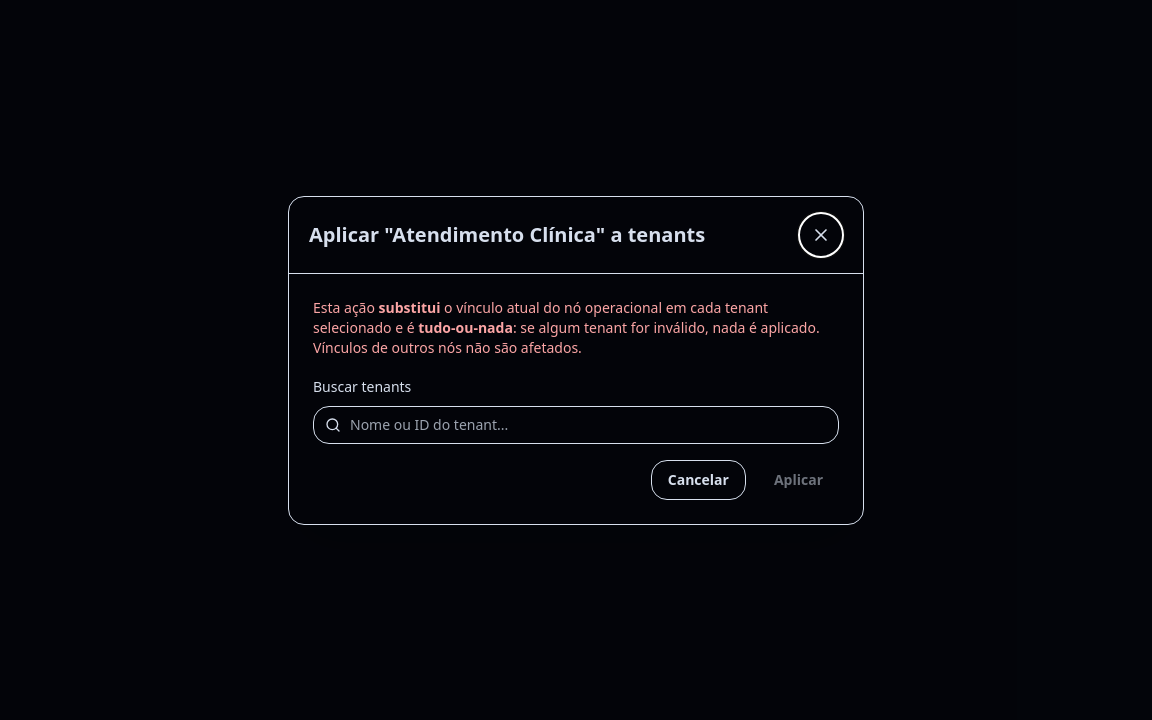
Test: BulkTenantLinkModal › separates already-linked tenants from ones that will change
Type "Acme Ltda" into the field labelled "Buscar tenants".
click(576, 424); type("Acme Ltda")  # box [313, 406, 839, 444]
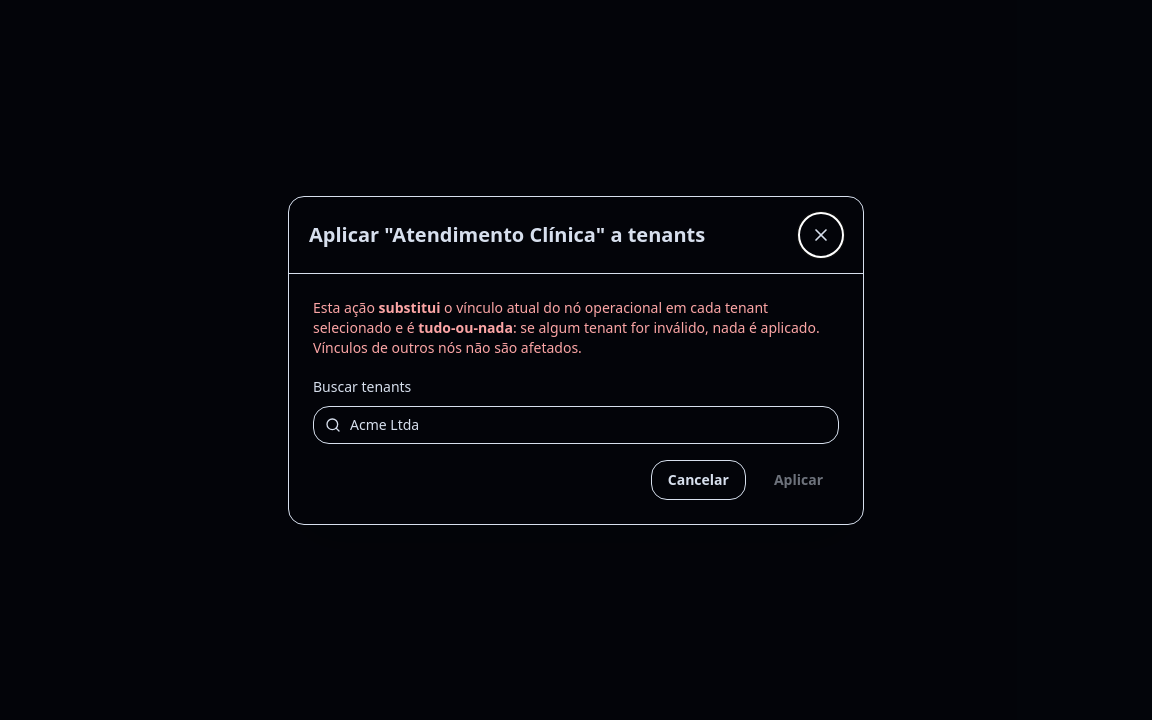
Press Enter in the field labelled "Buscar tenants", box [313, 406, 839, 444]
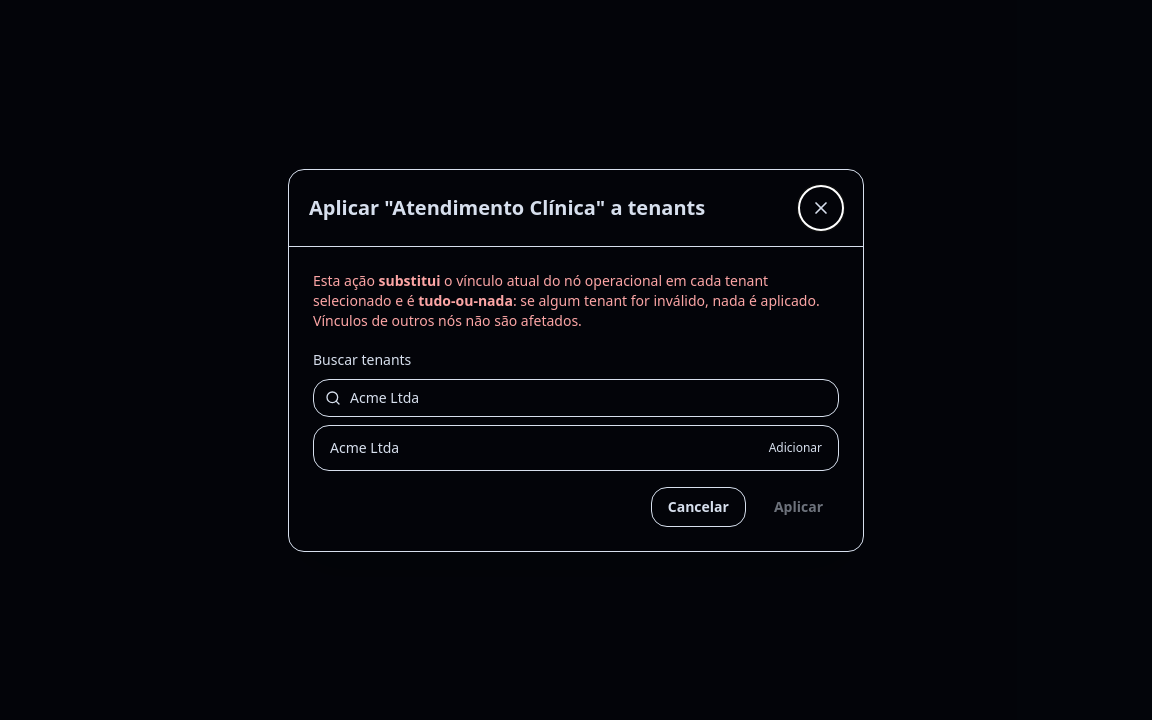
Now the text "Acme Ltda" is shown
Click the text "Acme Ltda".
click(365, 448)  # box [330, 438, 399, 458]
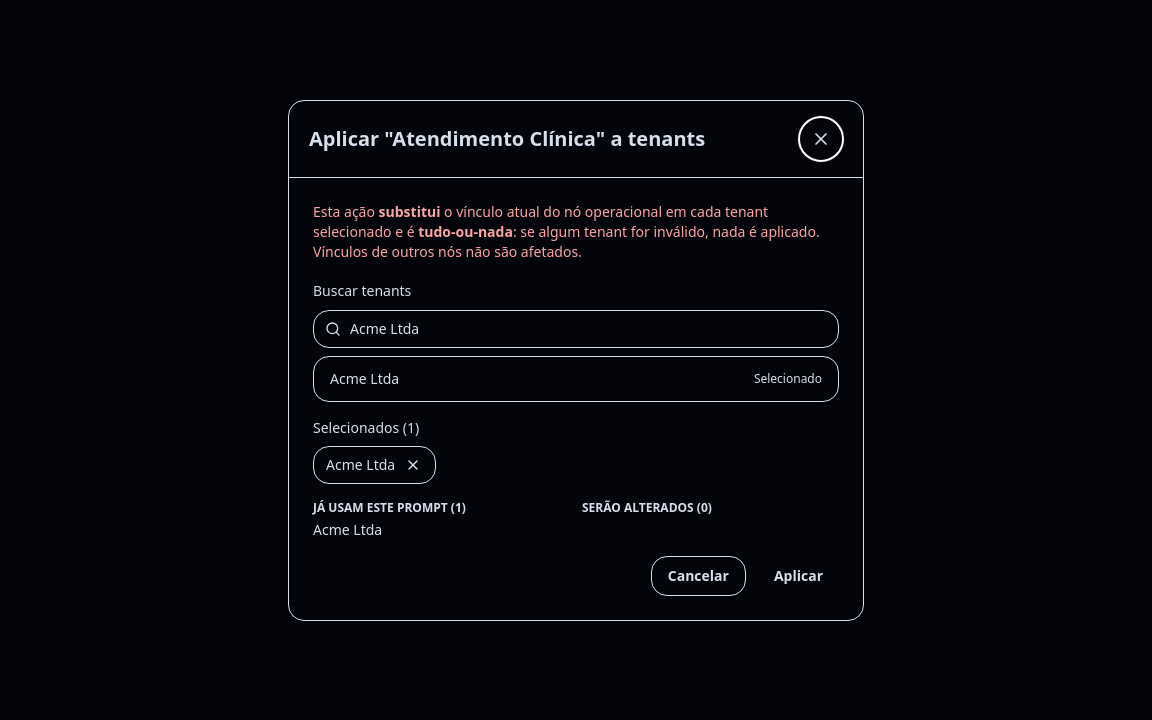
Replace the text in the field labelled "Buscar tenants" with "Beta S.A." at point(576, 328), box [313, 310, 839, 348]
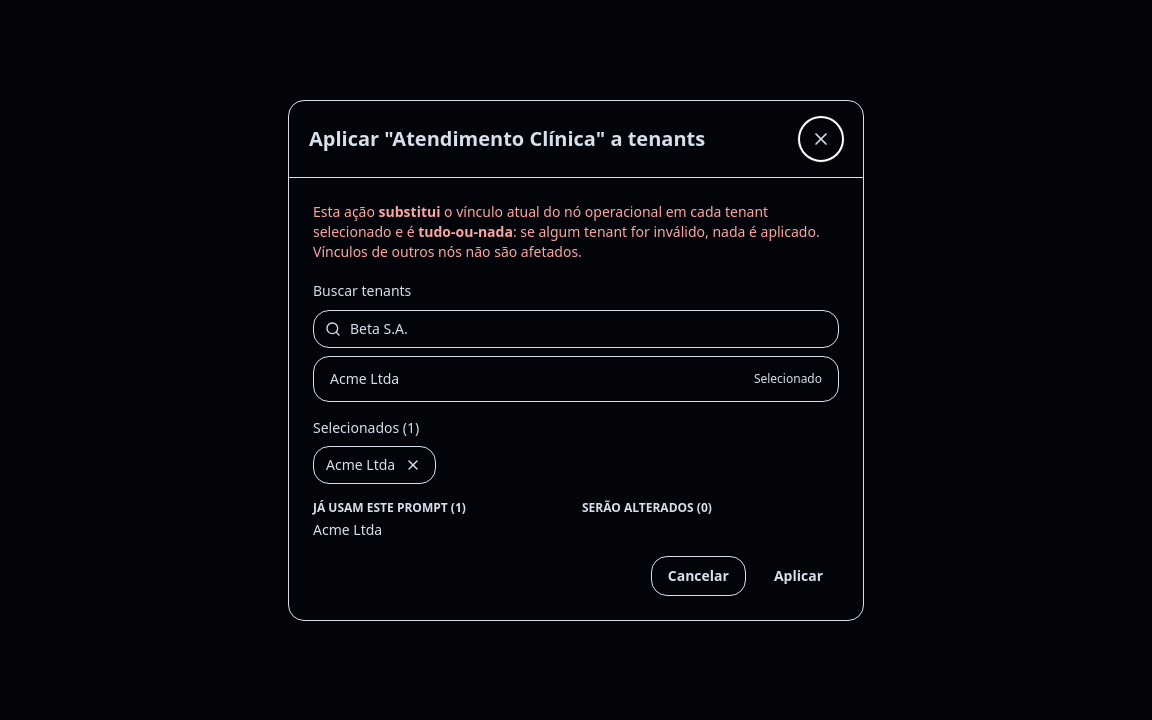
Press Enter in the field labelled "Buscar tenants", box [313, 310, 839, 348]
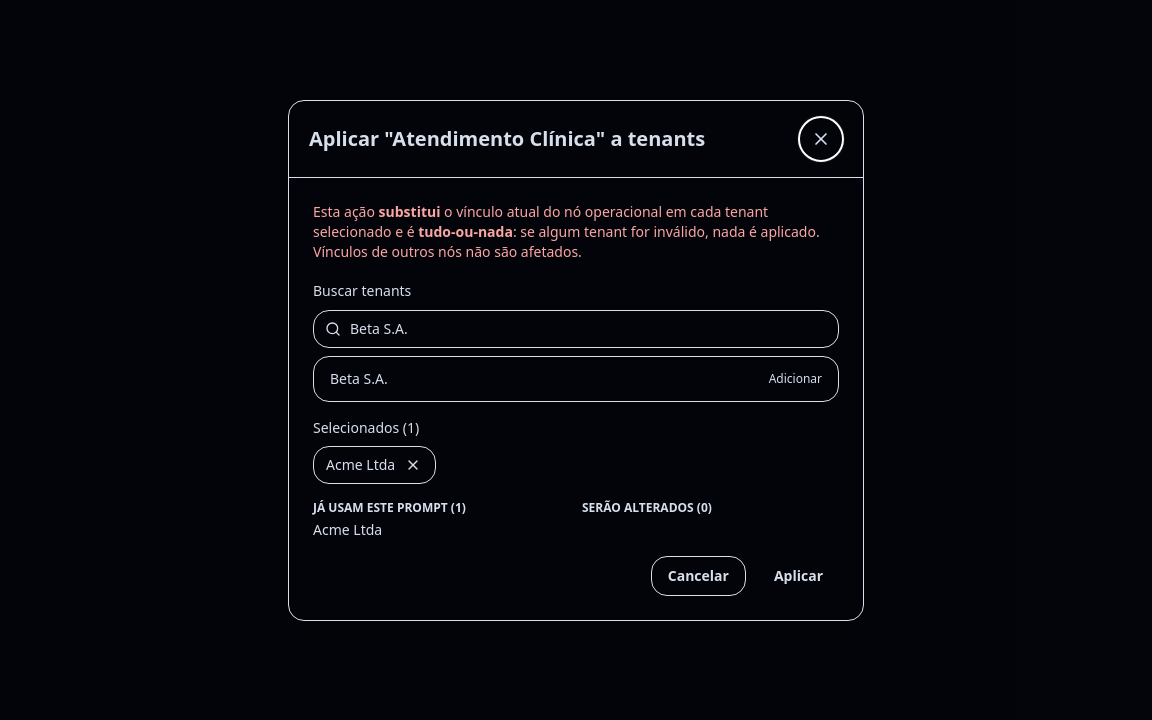
Now the text "Beta S.A." is shown
Click the text "Beta S.A.".
click(359, 378)  # box [330, 368, 388, 388]
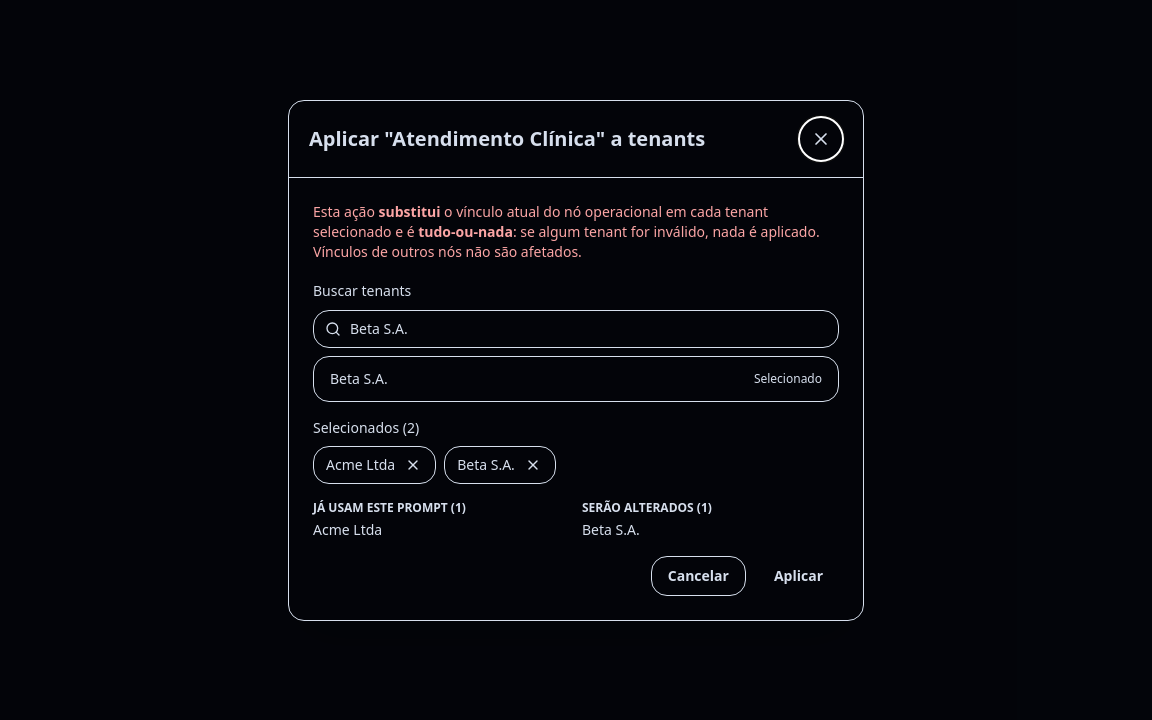
Now the text "Já usam este prompt (1)" is shown, box [313, 498, 466, 516]
Now the text "Serão alterados (1)" is shown, box [582, 498, 712, 516]
